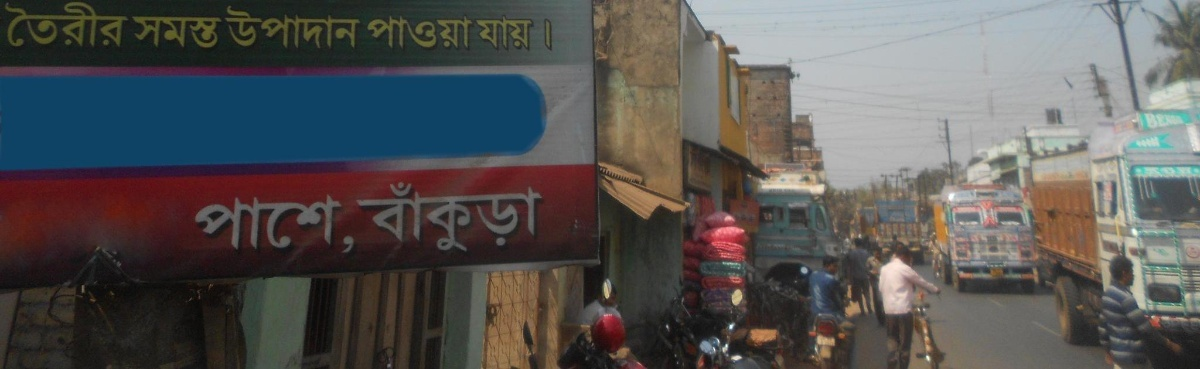text: (1121, 91, 1136, 185), (1137, 91, 1152, 185), (1153, 91, 1168, 185), (1169, 91, 1184, 185), (1185, 91, 1200, 185), (369, 180, 384, 253), (385, 180, 400, 253), (401, 180, 416, 253), (417, 180, 432, 253), (433, 180, 448, 253), (449, 180, 464, 253), (465, 180, 480, 253), (481, 180, 496, 253), (497, 180, 512, 253), (513, 180, 528, 253), (354, 180, 368, 253), (529, 180, 543, 253), (209, 194, 224, 261), (225, 194, 240, 261), (241, 194, 256, 261), (257, 194, 272, 261), (273, 194, 288, 261), (289, 194, 304, 261), (305, 194, 320, 261), (321, 194, 336, 261), (337, 194, 352, 261), (196, 194, 208, 261), (17, 2, 32, 51), (33, 2, 48, 51), (49, 2, 64, 51), (65, 2, 80, 51), (81, 2, 96, 51), (97, 2, 112, 51), (113, 2, 128, 51), (225, 5, 240, 53), (241, 5, 256, 53), (257, 5, 272, 53), (273, 5, 288, 53), (289, 5, 304, 53), (305, 5, 320, 53), (321, 5, 336, 53), (337, 5, 352, 53), (3, 2, 16, 51), (481, 12, 496, 53), (497, 12, 512, 53), (513, 12, 528, 53), (369, 15, 384, 54), (385, 15, 400, 54), (401, 15, 416, 54), (417, 15, 432, 54), (433, 15, 448, 54), (449, 15, 464, 54), (145, 16, 160, 49), (161, 16, 176, 49), (177, 16, 192, 49), (193, 16, 208, 49), (353, 194, 360, 261), (209, 16, 223, 49), (465, 15, 475, 54), (353, 5, 361, 53), (133, 16, 144, 49), (545, 16, 555, 52), (529, 12, 537, 53), (993, 261, 1008, 282), (537, 16, 544, 52), (129, 2, 134, 51), (981, 261, 992, 282), (476, 12, 480, 53), (1009, 261, 1011, 282)
